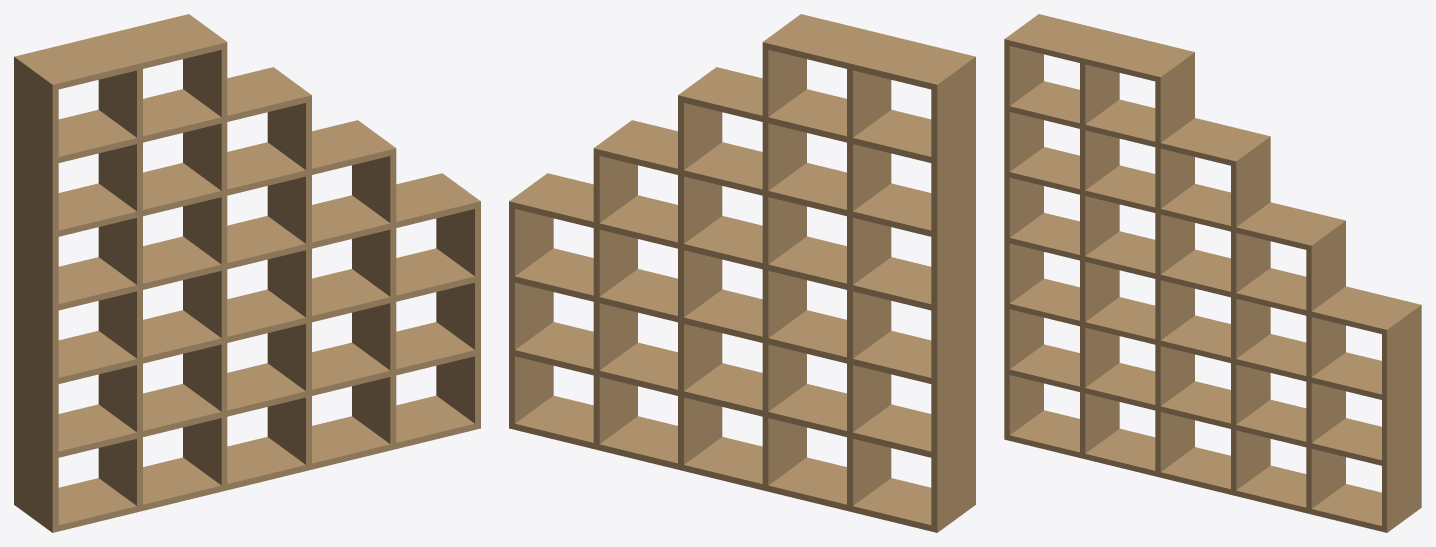
File: 617_階段型ラック.glb
3 renders of one model, left to right at view 1: azimuth 30°, elevation 25°; view 2: azimuth 150°, elevation 25°; view 3: azimuth 330°, elevation 25°, orthographic. The views are drawn at different scales.
Visible parts, largest first — view 1: Body; view 2: Body; view 3: Body.
Part boxes in pixels (x1,y1,x2,y2): Body: (14,14,480,532); Body: (509,14,975,532); Body: (1004,14,1421,532).
Size of the model in its own units: 1.8 by 1.8 by 0.28.
